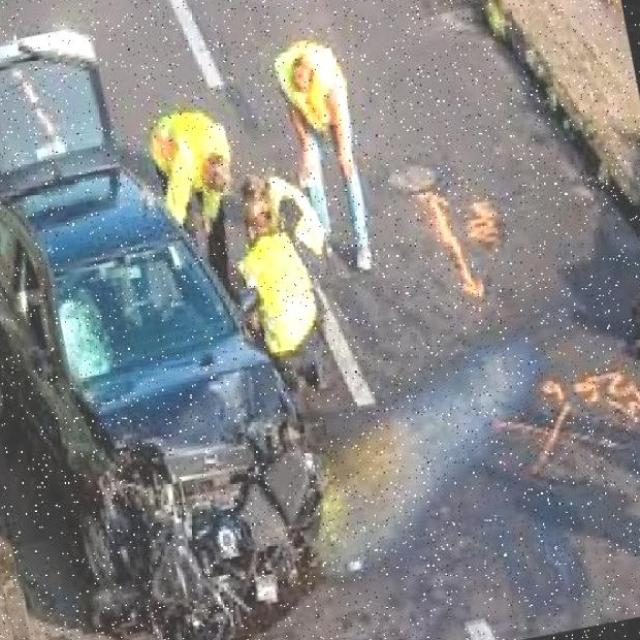accident: (0, 81, 372, 640)
